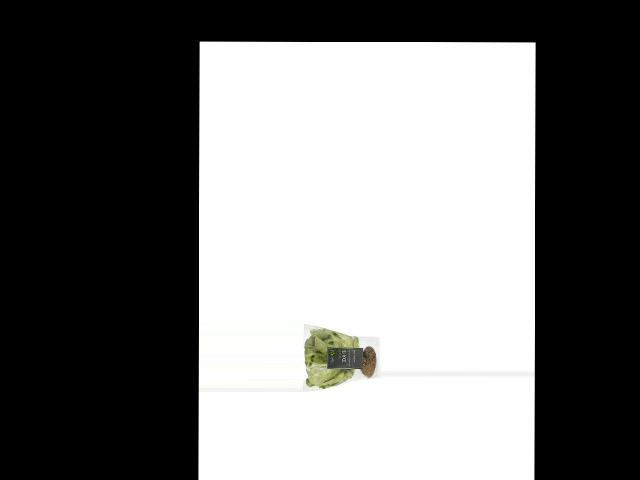lettuce: (303, 325, 380, 391)
